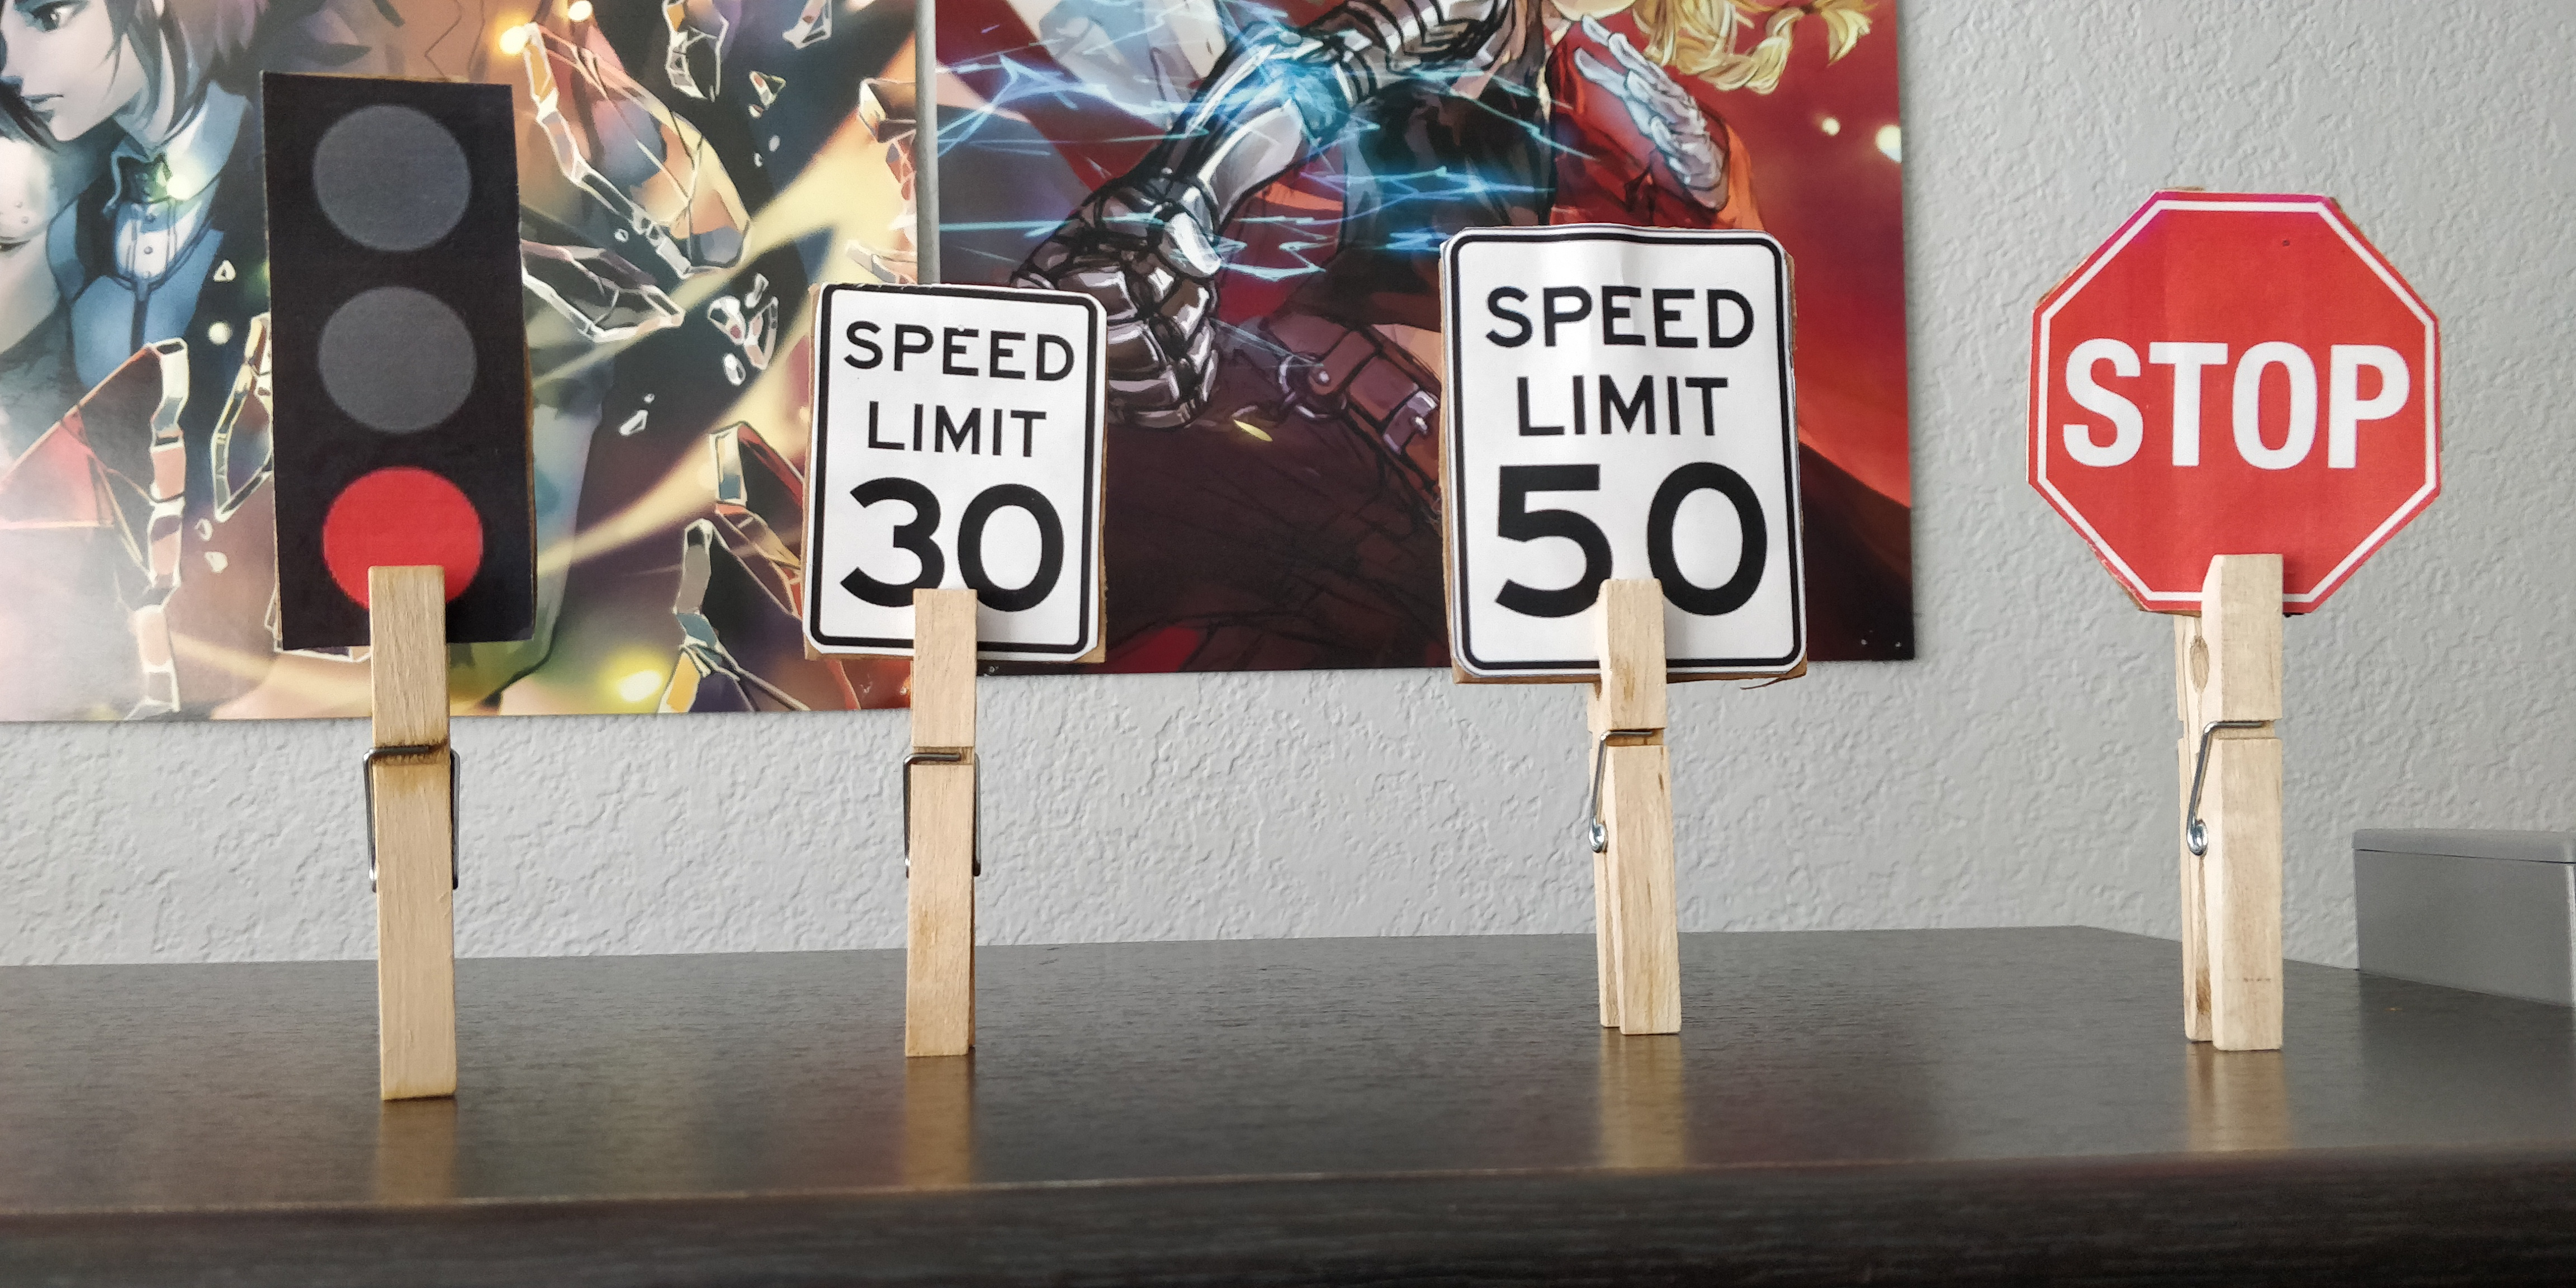Speed Limit 30: (813, 279, 1102, 660)
Speed Limit 50: (1436, 228, 1804, 687)
Stop Sign: (2024, 191, 2441, 610)
red light: (263, 72, 542, 644)
